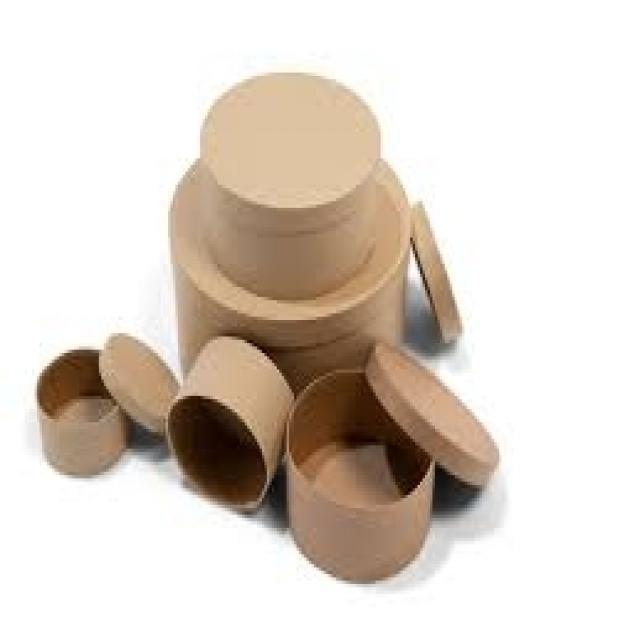cardboard paper: (99, 72, 496, 579)
